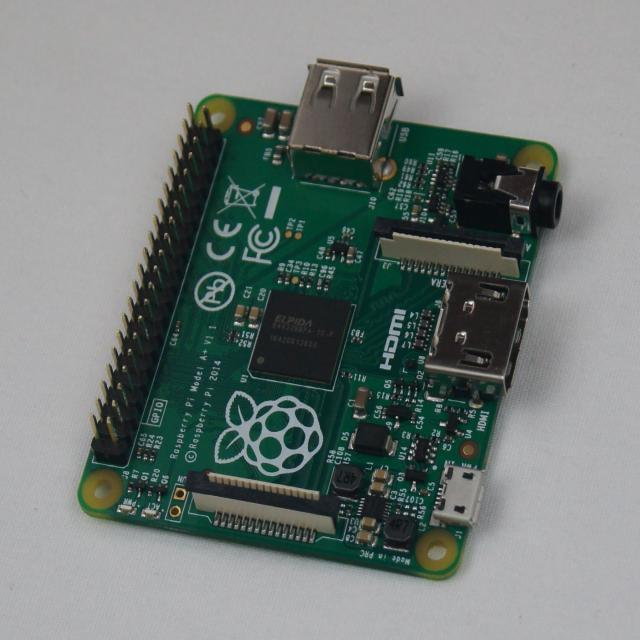Raspberry-Pi-1-A-: (78, 60, 564, 579)
